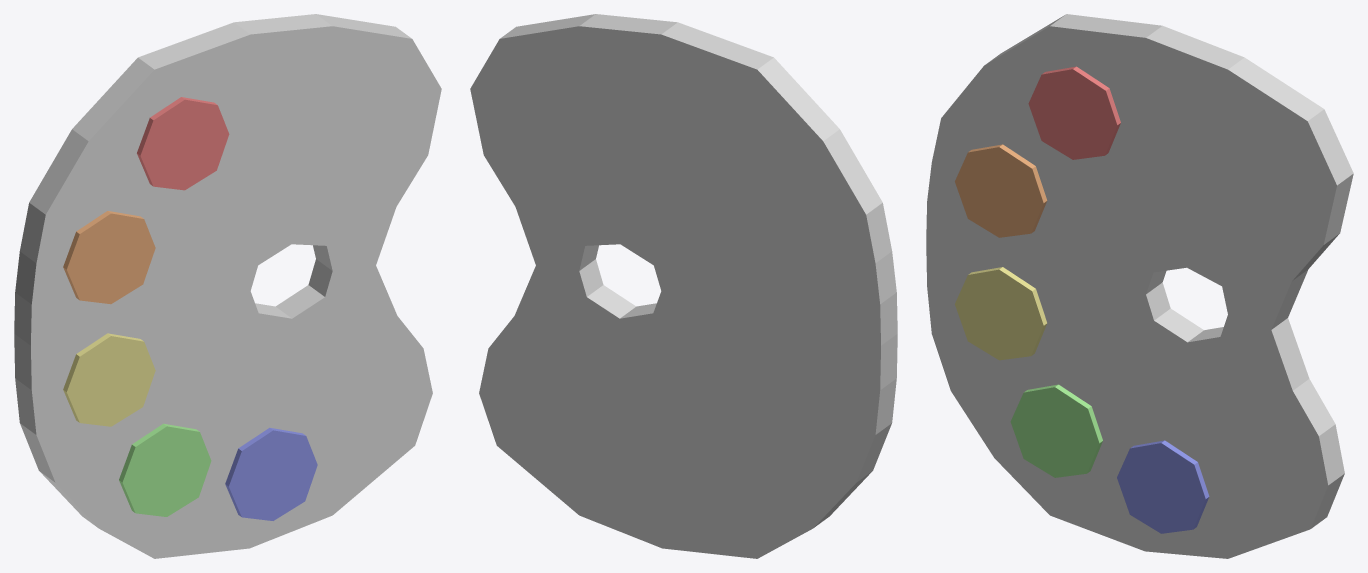
File: palette_shield.fbx
The picture shows the model from 3 angles, left to right: view 1: azimuth 30°, elevation 25°; view 2: azimuth 150°, elevation 25°; view 3: azimuth 330°, elevation 25°; orthographic projection.
Parts seen in each view (by area): view 1: Cube; view 2: Cube; view 3: Cube.
Boxes of the visible parts, x1,y1,x2,y2 form: Cube: (14, 14, 441, 558); Cube: (470, 14, 897, 558); Cube: (926, 14, 1353, 558).
Bounding box in the file's own units: 157 × 187 × 13.43.
